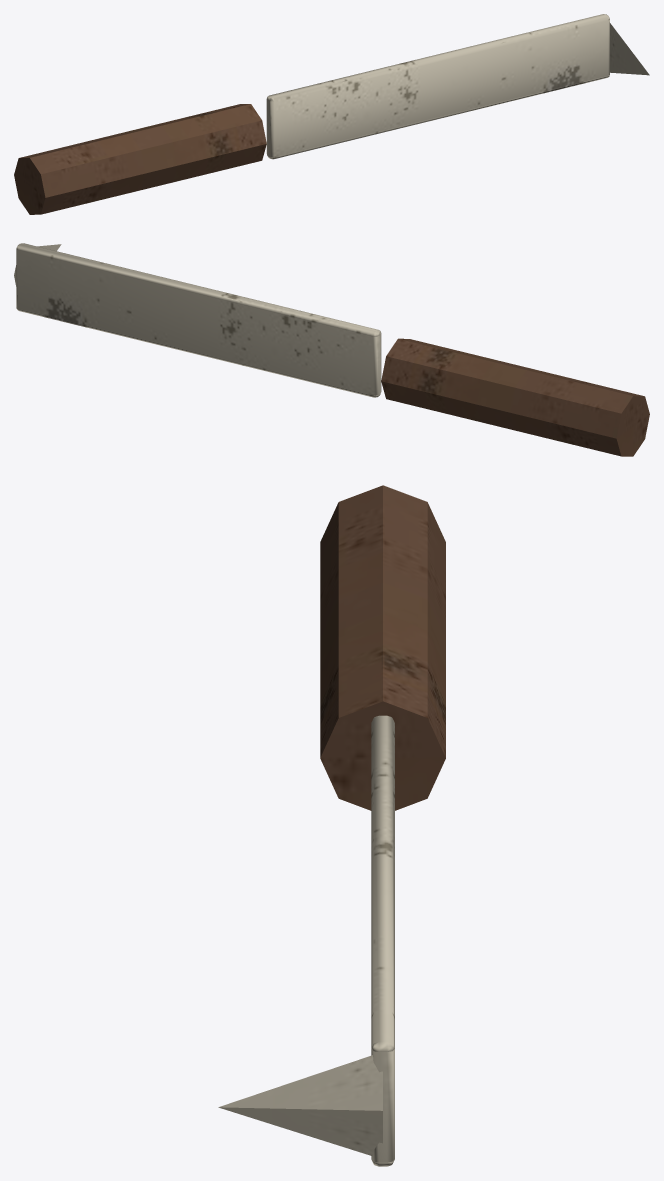
Rendered from held_weapon_bone_knife.glb.
The picture shows the model from 3 angles, top to bottom: view 1: azimuth 30°, elevation 25°; view 2: azimuth 150°, elevation 25°; view 3: azimuth 270°, elevation 25°; orthographic projection. The views are drawn at different scales.
Visible parts, largest first — view 1: box, cyl, cyl.001; view 2: box, cyl; view 3: cyl, box, cyl.001.
Boxes of the visible parts, <box> form: box: <box>266,14,609,159</box>; cyl: <box>14,104,266,214</box>; cyl.001: <box>609,22,649,75</box>; box: <box>16,243,381,397</box>; cyl: <box>381,338,649,456</box>; cyl: <box>320,485,445,810</box>; box: <box>371,715,394,1166</box>; cyl.001: <box>218,1055,382,1156</box>.
Size of the model in its own units: 0.3421 by 0.035 by 0.058.
Materials: 2 (2 with a texture image).
